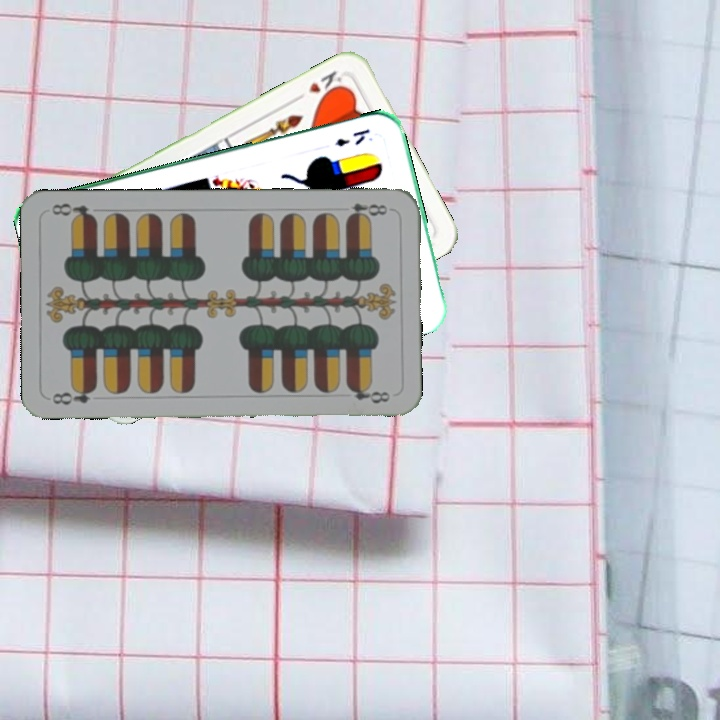E8: (48, 383, 99, 408), (342, 199, 394, 222)
EK: (331, 125, 373, 149)
HK: (291, 66, 346, 104)
